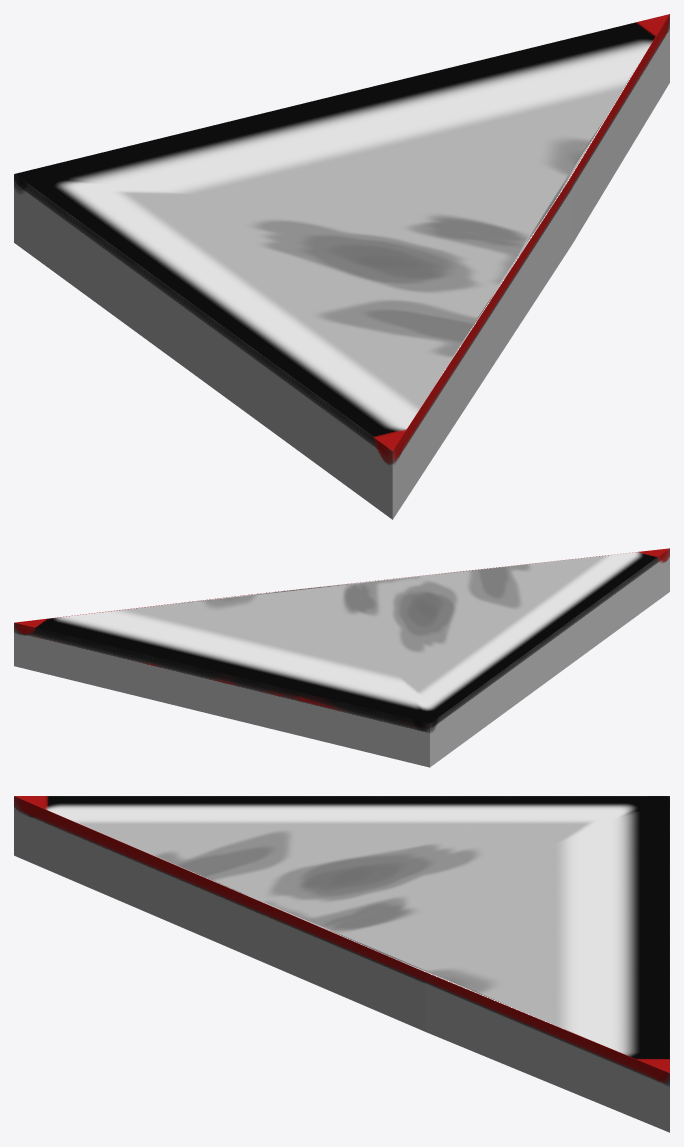
Rendered from TriangularGround2LimitText.fbx.
3 views of the same model, one above another, from view 1: azimuth 30°, elevation 25°; view 2: azimuth 150°, elevation 25°; view 3: azimuth 270°, elevation 25° (orthographic). The views are drawn at different scales.
Visible parts, largest first — view 1: pCube3; view 2: pCube3; view 3: pCube3.
Boxes of the visible parts, x1,y1,x2,y2 form: pCube3: [14, 14, 669, 519]; pCube3: [14, 548, 669, 767]; pCube3: [14, 796, 669, 1132].
Bounding box in the file's own units: 2.5 × 0.25 × 2.5.
Materials: 1 (1 with a texture image).
